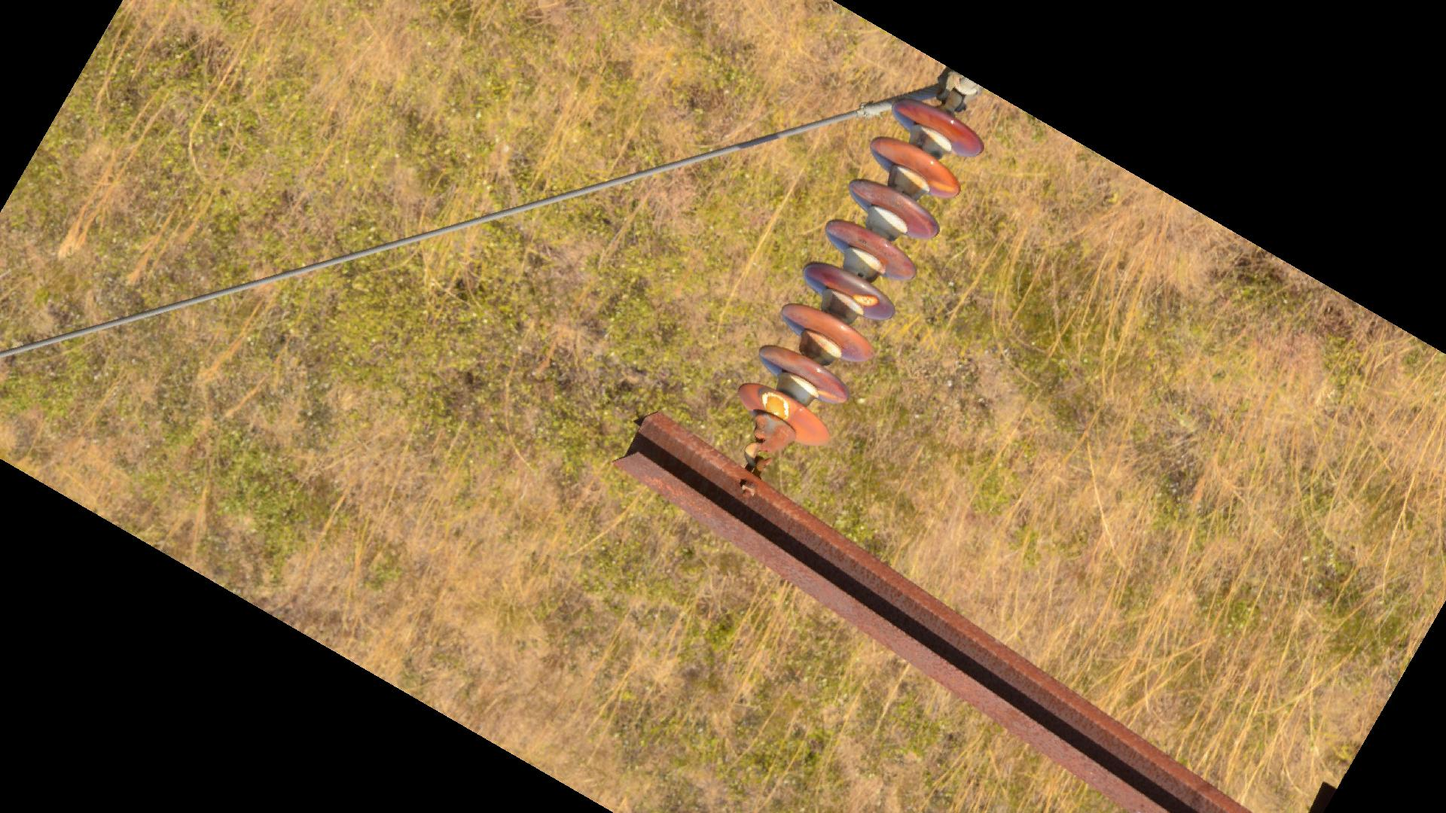insulator: (734, 95, 987, 449)
insulator_flashover: (761, 389, 792, 422), (814, 386, 844, 403), (929, 178, 957, 195), (852, 292, 880, 308)
